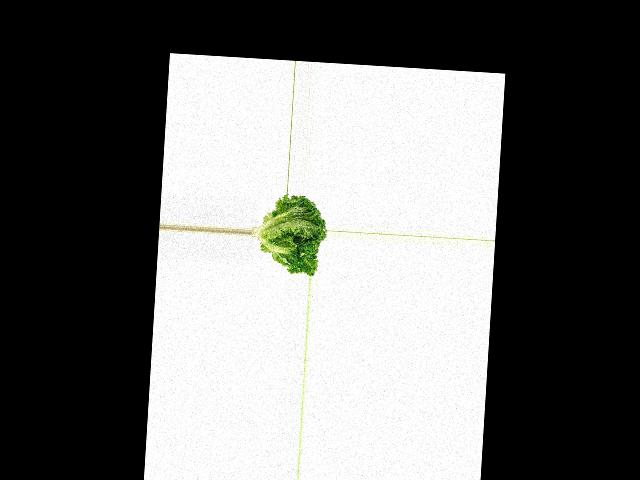lettuce: (249, 192, 328, 276)
